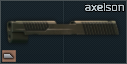P226 Axelson tactical Mk.25 pistol slide: (0, 0, 127, 64)
